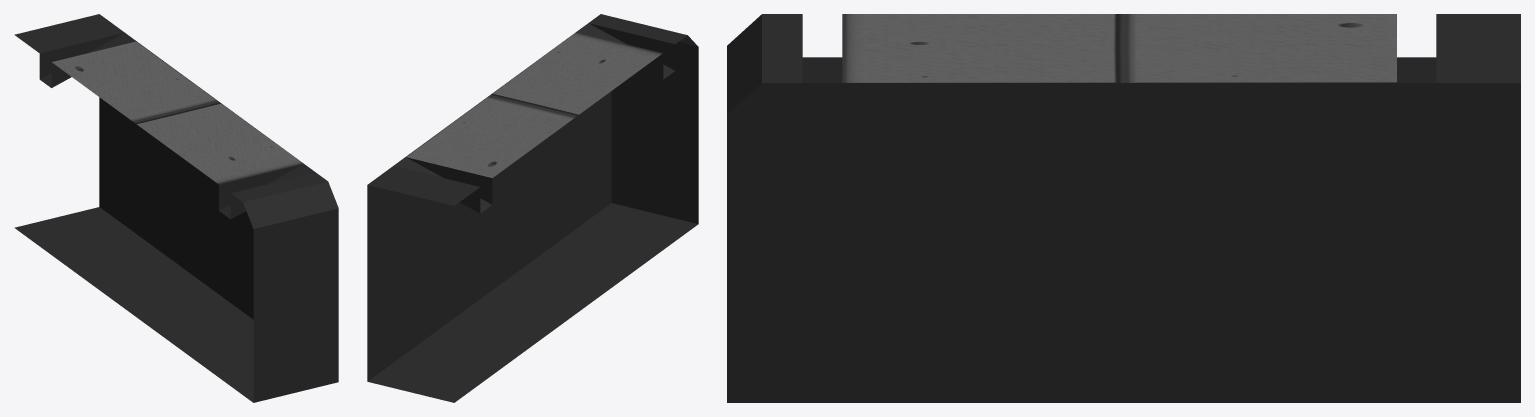
Rendered from end tile (textured).FBX.
The picture shows the model from 3 angles, left to right: view 1: azimuth 30°, elevation 25°; view 2: azimuth 150°, elevation 25°; view 3: azimuth 270°, elevation 25°; orthographic projection. The views are drawn at different scales.
Parts seen in each view (by area): view 1: end tile; view 2: end tile; view 3: end tile.
Boxes of the visible parts, x1,y1,x2,y2 form: end tile: (14, 14, 338, 402); end tile: (367, 14, 698, 402); end tile: (727, 14, 1520, 402).
Size of the model in its own units: 24.29 by 52.53 by 118.
